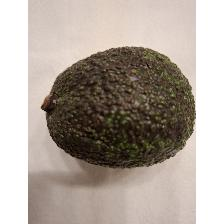Avocado: (39, 44, 196, 172)
